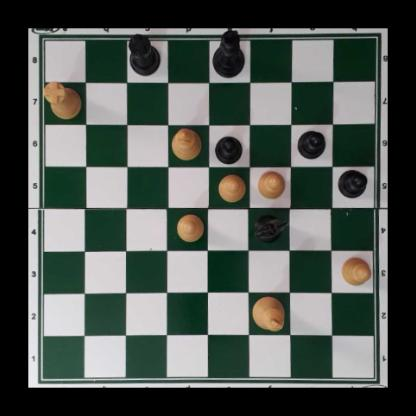black-king: (213, 27, 245, 80)
black-knight: (255, 212, 287, 243)
black-pawn: (337, 169, 367, 198), (297, 129, 326, 159), (214, 134, 243, 163)
black-rook: (126, 35, 161, 73)
white-bishop: (171, 124, 202, 161)
white-king: (251, 294, 287, 332)
white-pawn: (339, 256, 371, 287), (175, 212, 204, 243), (217, 173, 246, 203), (257, 170, 284, 199)
white-rook: (42, 83, 81, 117)
